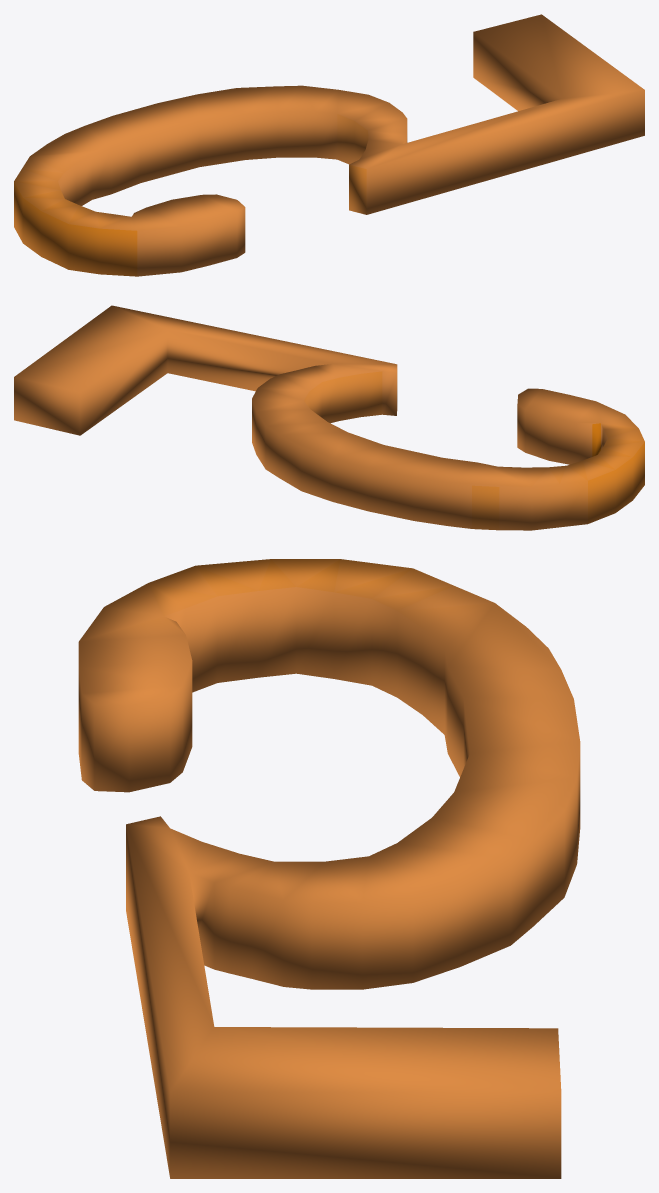
The picture shows the model from 3 angles, top to bottom: view 1: azimuth 30°, elevation 25°; view 2: azimuth 150°, elevation 25°; view 3: azimuth 270°, elevation 25°; orthographic projection. The views are drawn at different scales.
Parts seen in each view (by area): view 1: _; view 2: _; view 3: _.
Boxes of the visible parts, box(x1,y1,x2,y2) form: _: box(14, 14, 644, 276); _: box(14, 305, 644, 530); _: box(78, 559, 580, 1178).
Size of the model in its own units: 2.64 by 1.05 by 0.2.
